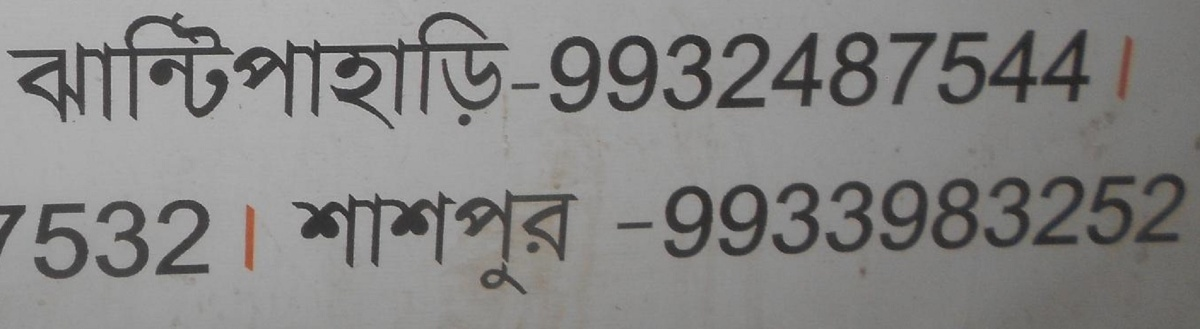text: (17, 6, 32, 131), (33, 6, 48, 131), (49, 6, 64, 131), (65, 6, 80, 131), (81, 6, 96, 131), (97, 6, 112, 131), (113, 6, 128, 131), (129, 6, 144, 131), (145, 6, 160, 131), (161, 6, 176, 131), (177, 6, 192, 131), (193, 6, 208, 131), (209, 6, 224, 131), (225, 6, 240, 131), (241, 6, 256, 131), (257, 6, 272, 131), (273, 6, 288, 131), (289, 6, 304, 131), (305, 6, 320, 131), (321, 6, 336, 131), (337, 6, 352, 131), (353, 6, 368, 131), (369, 6, 384, 131), (385, 6, 400, 131), (401, 6, 416, 131), (417, 6, 432, 131), (433, 6, 448, 131), (449, 6, 464, 131), (465, 6, 480, 131), (481, 6, 496, 131), (497, 6, 512, 131), (513, 6, 528, 131), (529, 6, 544, 131), (545, 6, 560, 131), (561, 6, 576, 131), (577, 6, 592, 131), (593, 6, 608, 131), (609, 6, 624, 131), (625, 6, 640, 131), (641, 6, 656, 131), (657, 6, 672, 131), (673, 6, 688, 131), (689, 6, 704, 131), (705, 6, 720, 131), (721, 6, 736, 131), (737, 6, 752, 131), (753, 6, 768, 131), (769, 6, 784, 131), (785, 6, 800, 131), (801, 6, 816, 131), (817, 6, 832, 131), (833, 6, 848, 131), (849, 6, 864, 131), (865, 6, 880, 131), (881, 6, 896, 131), (897, 6, 912, 131), (913, 6, 928, 131), (929, 6, 944, 131), (945, 6, 960, 131), (961, 6, 976, 131), (977, 6, 992, 131), (993, 6, 1008, 131), (1009, 6, 1024, 131), (1025, 6, 1040, 131), (1041, 6, 1056, 131), (1057, 6, 1072, 131), (1073, 6, 1088, 131), (289, 182, 304, 298), (305, 182, 320, 298), (321, 182, 336, 298), (337, 182, 352, 298), (353, 182, 368, 298), (369, 182, 384, 298), (385, 182, 400, 298), (401, 182, 416, 298), (417, 182, 432, 298), (433, 182, 448, 298), (449, 182, 464, 298), (465, 182, 480, 298), (481, 182, 496, 298), (497, 182, 512, 298), (513, 182, 528, 298), (529, 182, 544, 298), (545, 182, 560, 298), (561, 182, 576, 298), (625, 166, 640, 264), (641, 166, 656, 264), (657, 166, 672, 264), (673, 166, 688, 264), (689, 166, 704, 264), (705, 166, 720, 264), (721, 166, 736, 264), (737, 166, 752, 264), (753, 166, 768, 264), (769, 166, 784, 264), (785, 166, 800, 264), (801, 166, 816, 264), (817, 166, 832, 264), (833, 166, 848, 264), (849, 166, 864, 264), (865, 166, 880, 264), (881, 166, 896, 264), (897, 166, 912, 264), (913, 166, 928, 264), (929, 166, 944, 264), (945, 166, 960, 264), (961, 166, 976, 264), (977, 166, 992, 264), (993, 166, 1008, 264), (1009, 166, 1024, 264), (1025, 166, 1040, 264), (1041, 166, 1056, 264), (1057, 166, 1072, 264), (1073, 166, 1088, 264), (1089, 166, 1104, 264), (1105, 166, 1120, 264), (1121, 166, 1136, 264), (1137, 166, 1152, 264), (1153, 166, 1168, 264), (1169, 166, 1184, 264), (17, 195, 32, 282), (33, 195, 48, 282), (49, 195, 64, 282), (65, 195, 80, 282), (81, 195, 96, 282), (97, 195, 112, 282), (113, 195, 128, 282), (129, 195, 144, 282), (145, 195, 160, 282), (161, 195, 176, 282), (177, 195, 192, 282), (193, 195, 208, 282), (6, 6, 16, 131), (2, 195, 16, 282), (209, 195, 220, 282), (615, 166, 624, 264), (1089, 6, 1096, 131), (1121, 37, 1132, 100), (1185, 166, 1192, 264), (246, 205, 256, 269), (577, 182, 579, 298), (1119, 37, 1120, 100)
